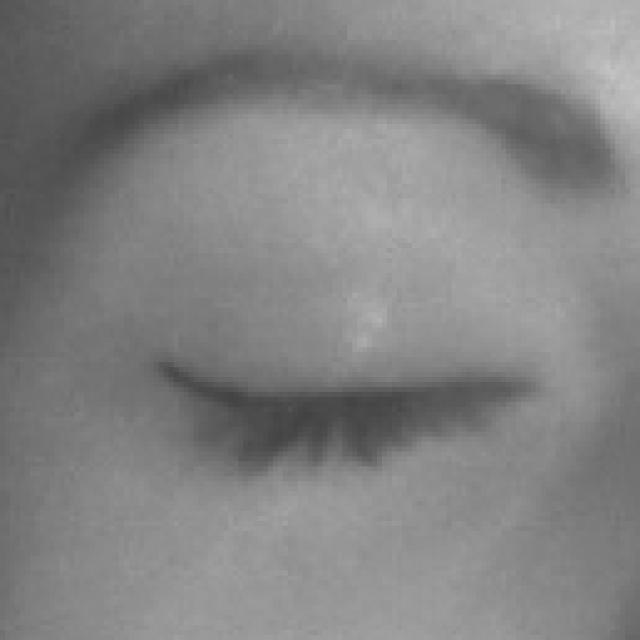close: (0, 39, 640, 560)
